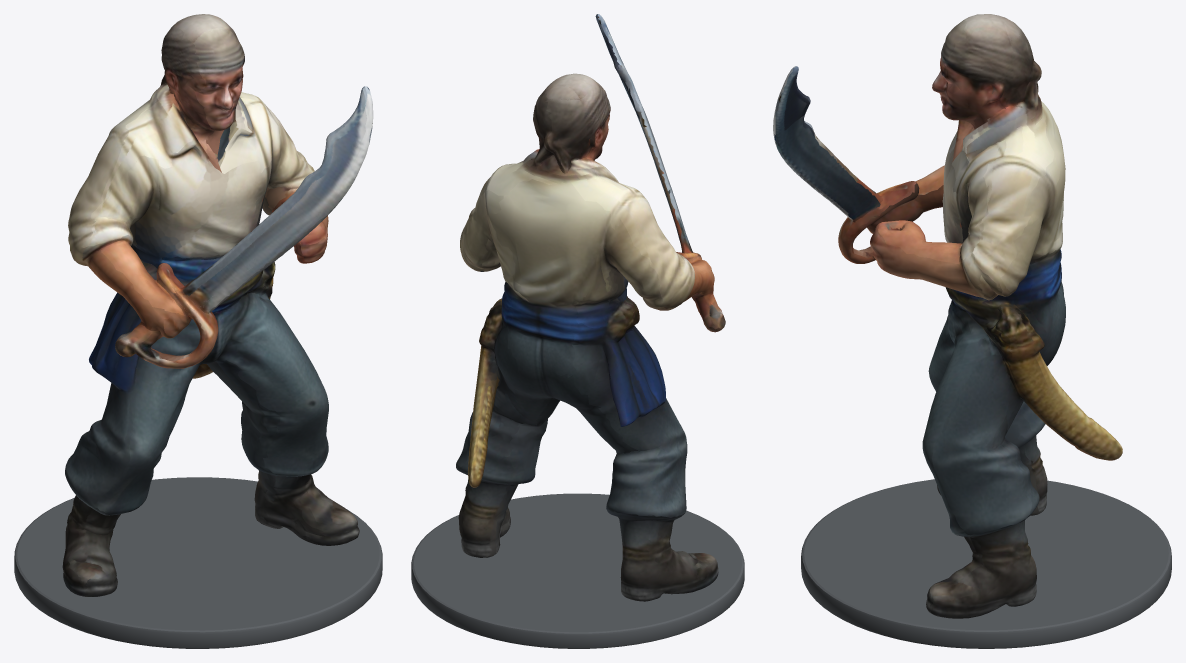
The model's file is sailor.glb.
3 views of the same model, side by side, from view 1: azimuth 30°, elevation 25°; view 2: azimuth 150°, elevation 25°; view 3: azimuth 270°, elevation 25° (orthographic). The views are drawn at different scales.
Parts seen in each view (by area): view 1: sailor_body, sailor_round_base; view 2: sailor_body, sailor_round_base; view 3: sailor_body, sailor_round_base.
Part boxes in pixels (<box>): sailor_body: <box>62,14,373,596</box>; sailor_round_base: <box>14,477,382,648</box>; sailor_body: <box>456,14,725,601</box>; sailor_round_base: <box>411,493,744,648</box>; sailor_body: <box>773,14,1122,618</box>; sailor_round_base: <box>801,479,1171,648</box>.
Size of the model in its own units: 1 by 1.65 by 1.08.
2 materials, 1 textured.
